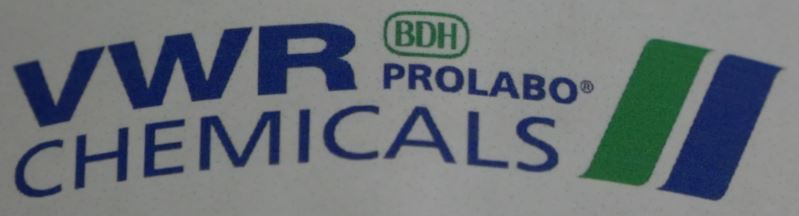VWR: (13, 6, 786, 204)
